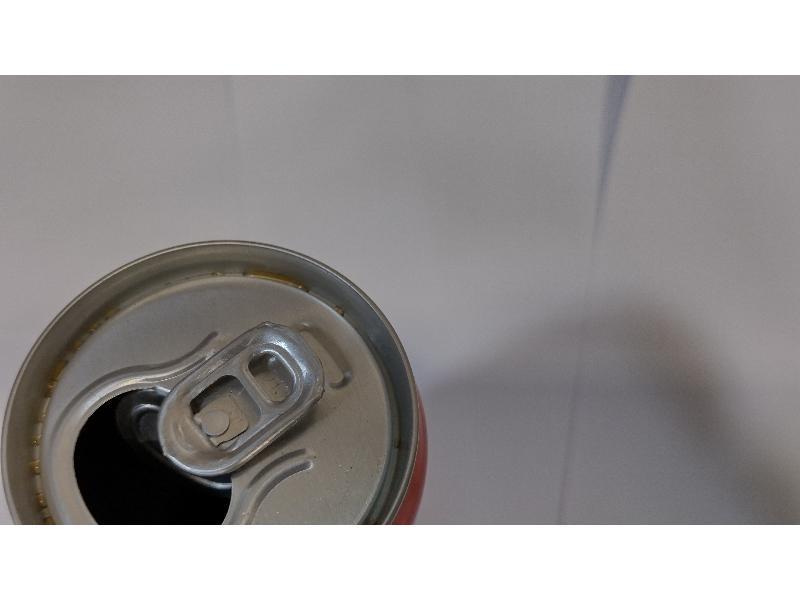can: (4, 235, 437, 526)
